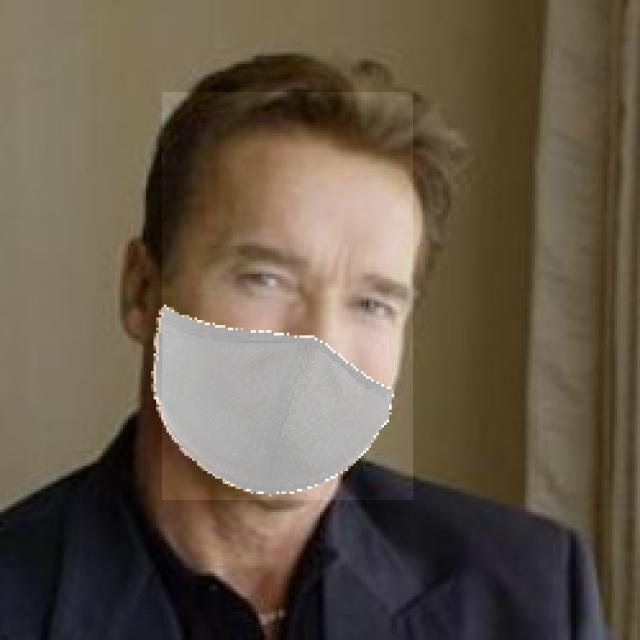cloth: (162, 92, 413, 500)
